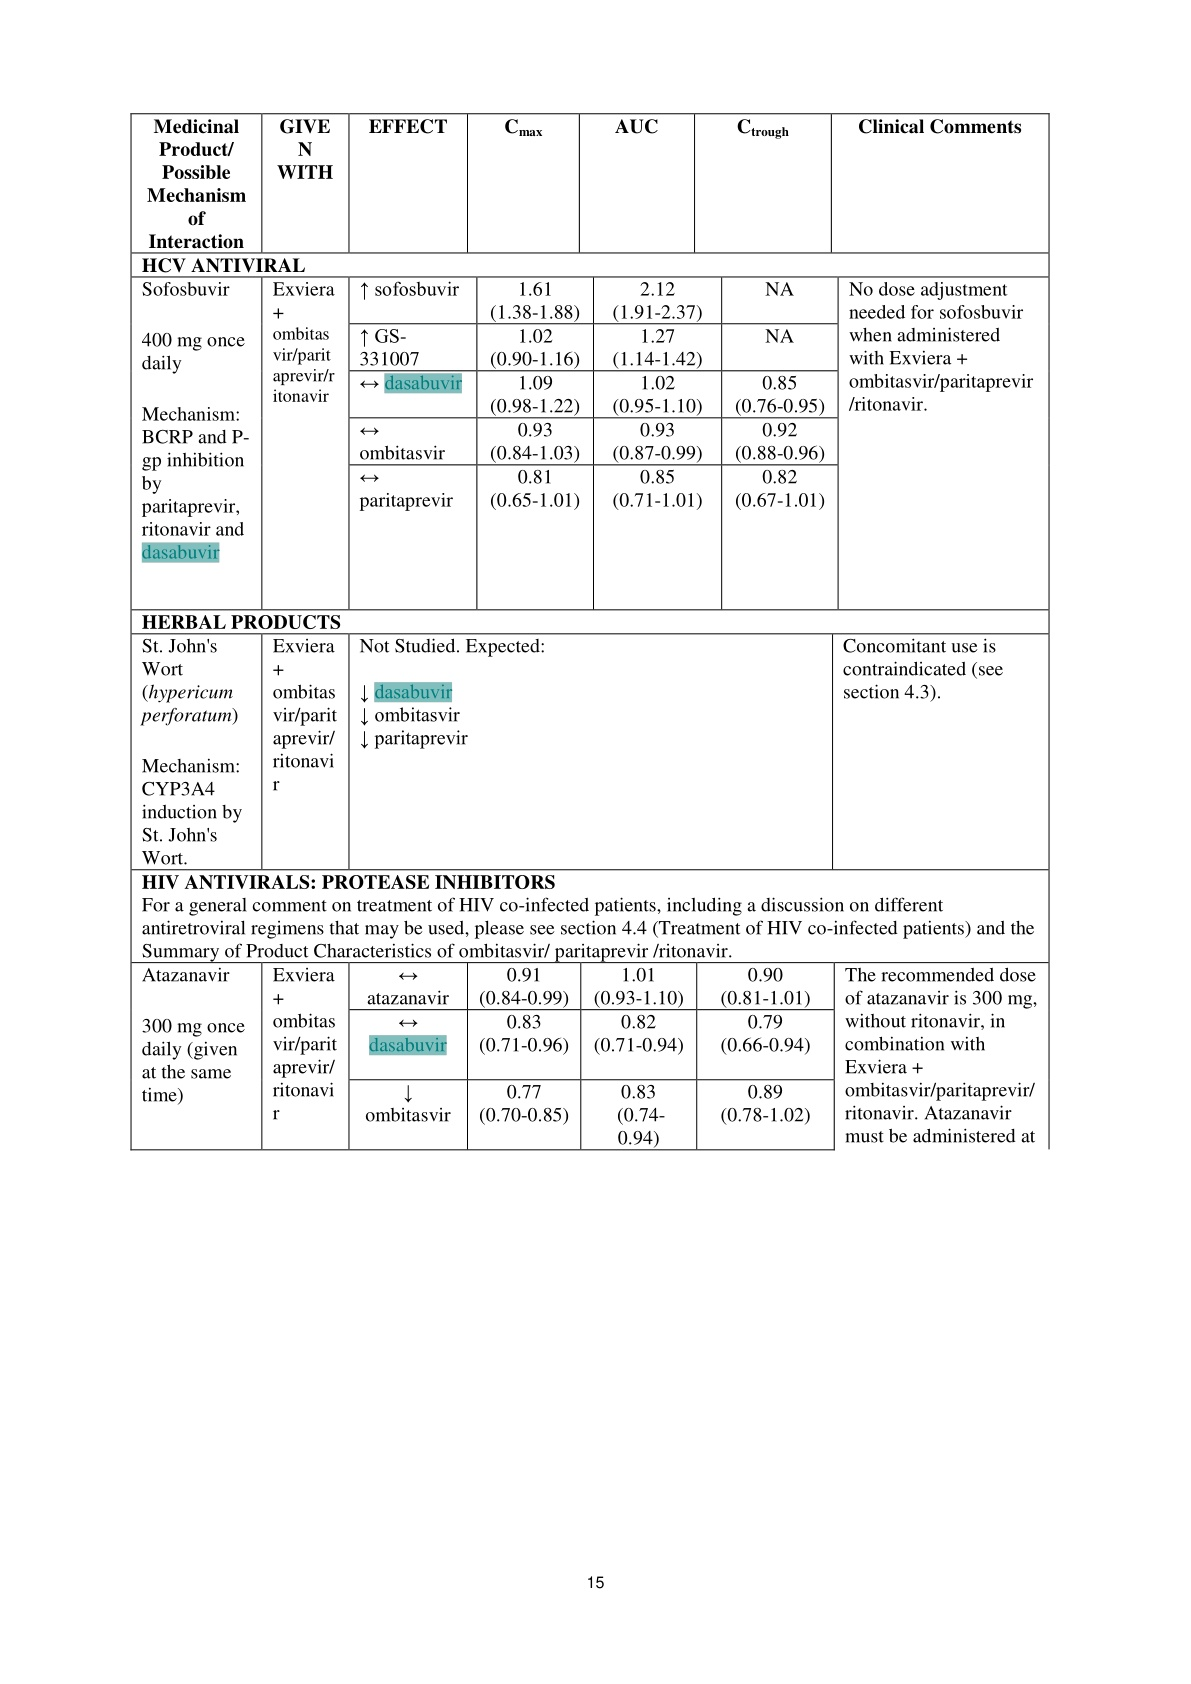merged_cells: (128, 111, 1052, 1154)
